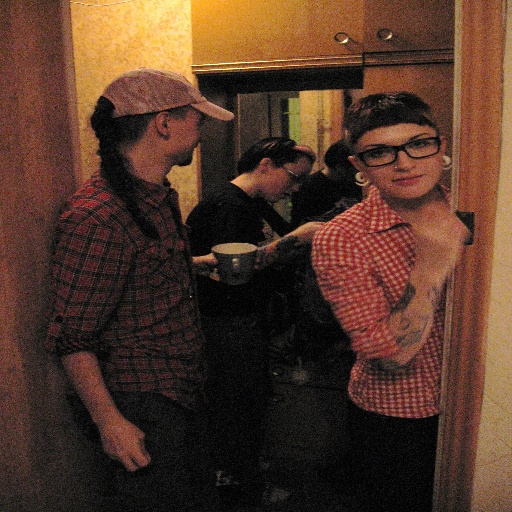hand: (77, 386, 155, 474), (408, 200, 468, 276), (197, 249, 262, 283), (293, 219, 328, 246)
